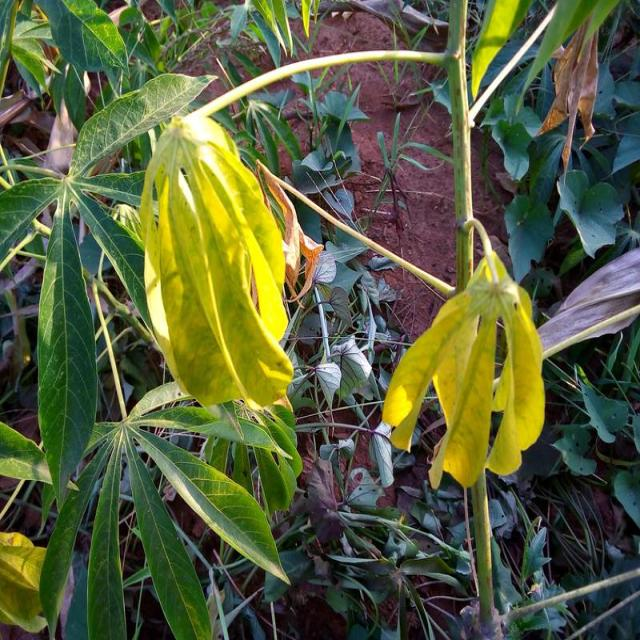cassava leaf: (138, 113, 294, 411), (380, 248, 546, 490), (35, 204, 98, 513)
